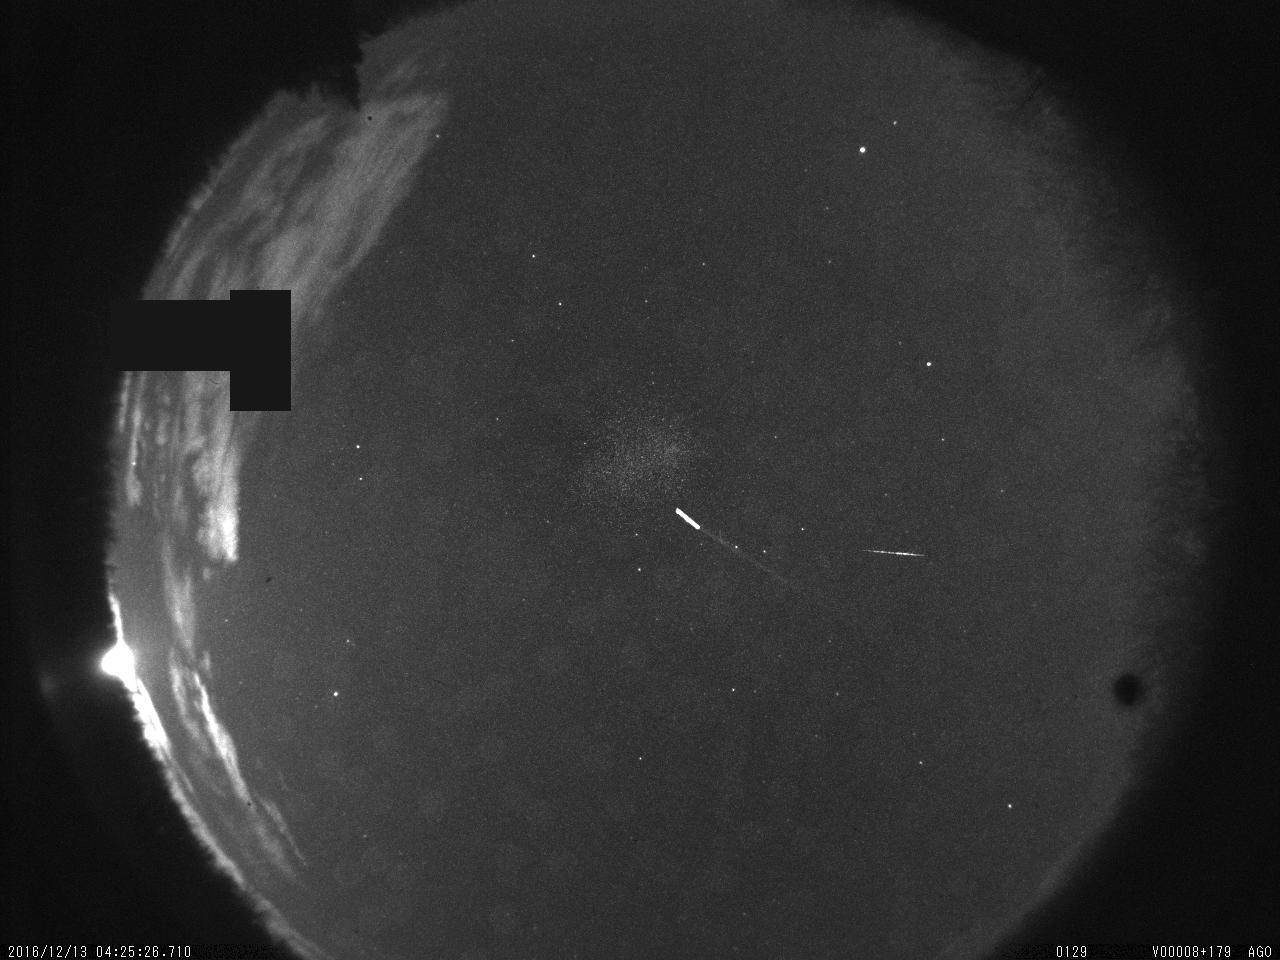meteor: (858, 547, 931, 564)
satelite: (666, 497, 708, 542)
